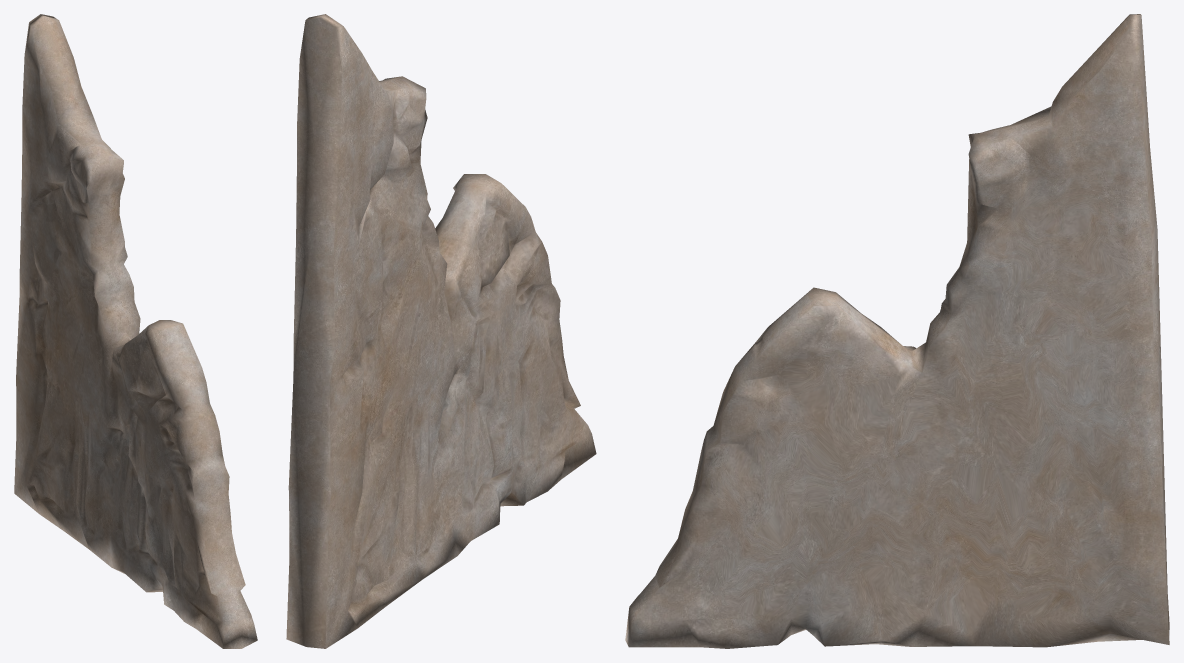
The model's file is historically_tablet.glb.
The picture shows the model from 3 angles, left to right: view 1: azimuth 30°, elevation 25°; view 2: azimuth 150°, elevation 25°; view 3: azimuth 270°, elevation 25°; orthographic projection. The views are drawn at different scales.
Visible parts, largest first — view 1: Plane; view 2: Plane; view 3: Plane.
Part boxes in pixels (left/top/right/bottom): Plane: left=14, top=14, right=257, bottom=648; Plane: left=286, top=14, right=596, bottom=648; Plane: left=625, top=14, right=1169, bottom=648.
Bounding box in the file's own units: 16.71 × 196 × 154.
1 material, 1 textured.
